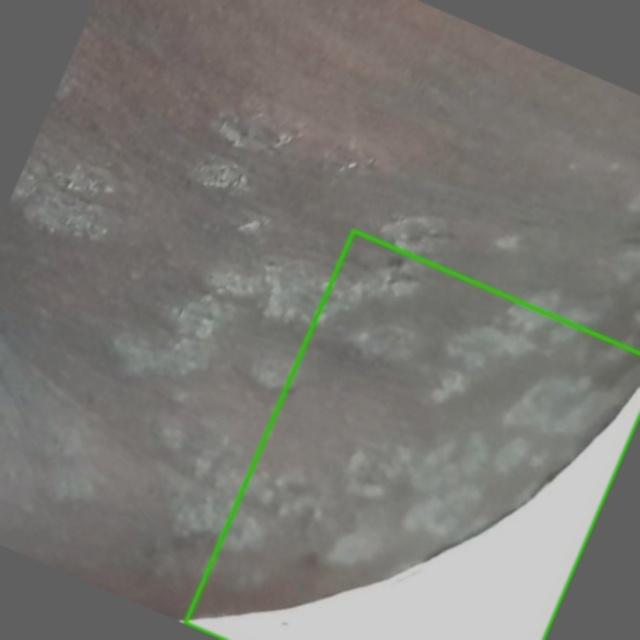Tinea Corporis: (185, 230, 639, 639)
